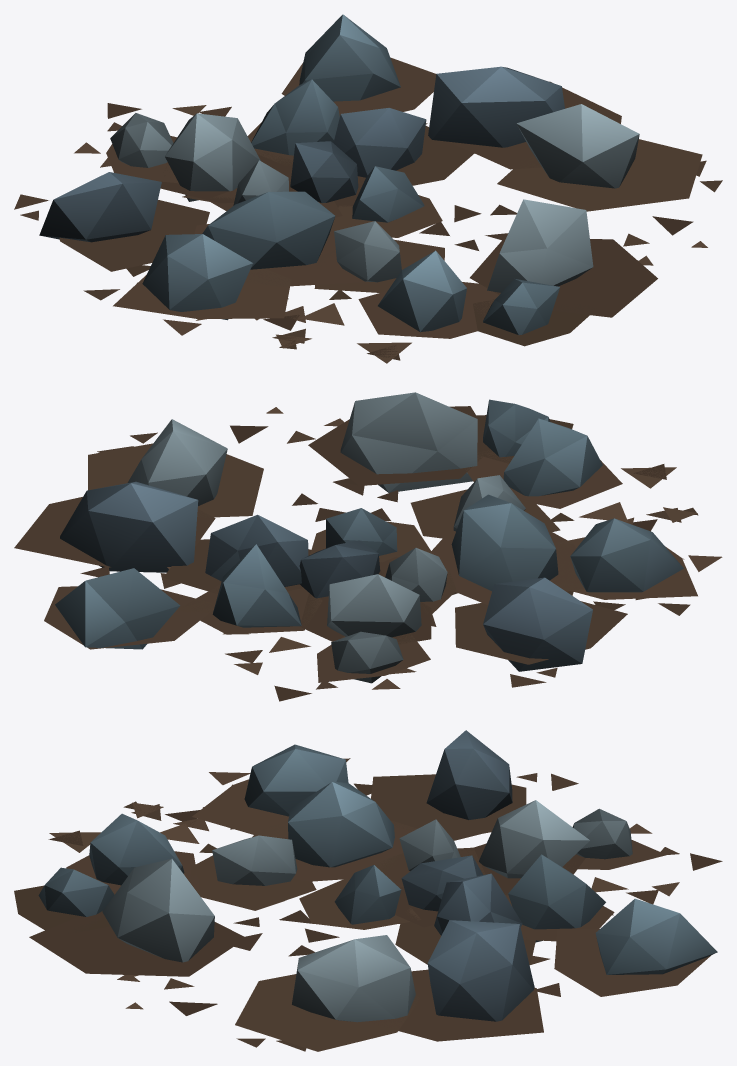
File: iron-ore-rich.glb
3 renders of one model, top to bottom at view 1: azimuth 30°, elevation 25°; view 2: azimuth 150°, elevation 25°; view 3: azimuth 270°, elevation 25°, orthographic.
Parts seen in each view (by area): view 1: iron-ore-rich; view 2: iron-ore-rich; view 3: iron-ore-rich.
Boxes of the visible parts, x1,y1,x2,y2 form: iron-ore-rich: (14,14,722,363); iron-ore-rich: (14,392,722,701); iron-ore-rich: (14,730,722,1051).
Bounding box in the file's own units: 1.49 × 0.2042 × 1.52.
